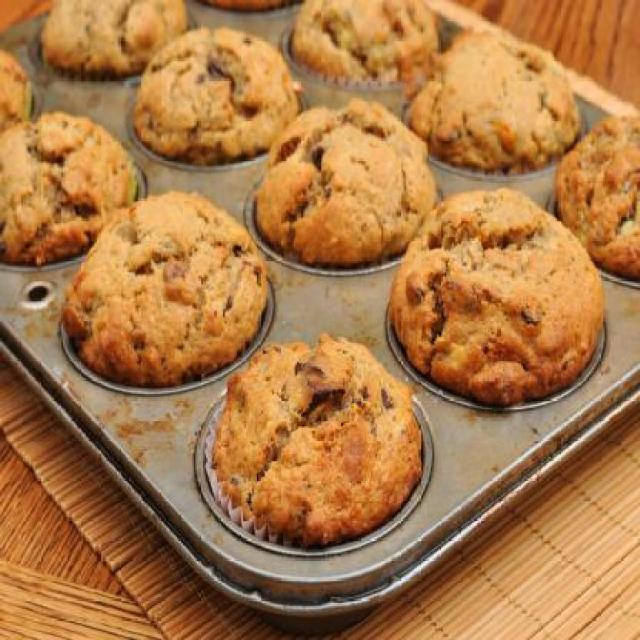Cookie: (388, 186, 606, 409), (206, 330, 423, 548), (57, 186, 268, 388), (252, 93, 436, 262), (408, 18, 584, 178), (133, 24, 304, 162), (0, 104, 138, 264), (551, 108, 640, 276), (290, 0, 438, 86), (35, 0, 190, 75), (0, 48, 34, 128)
